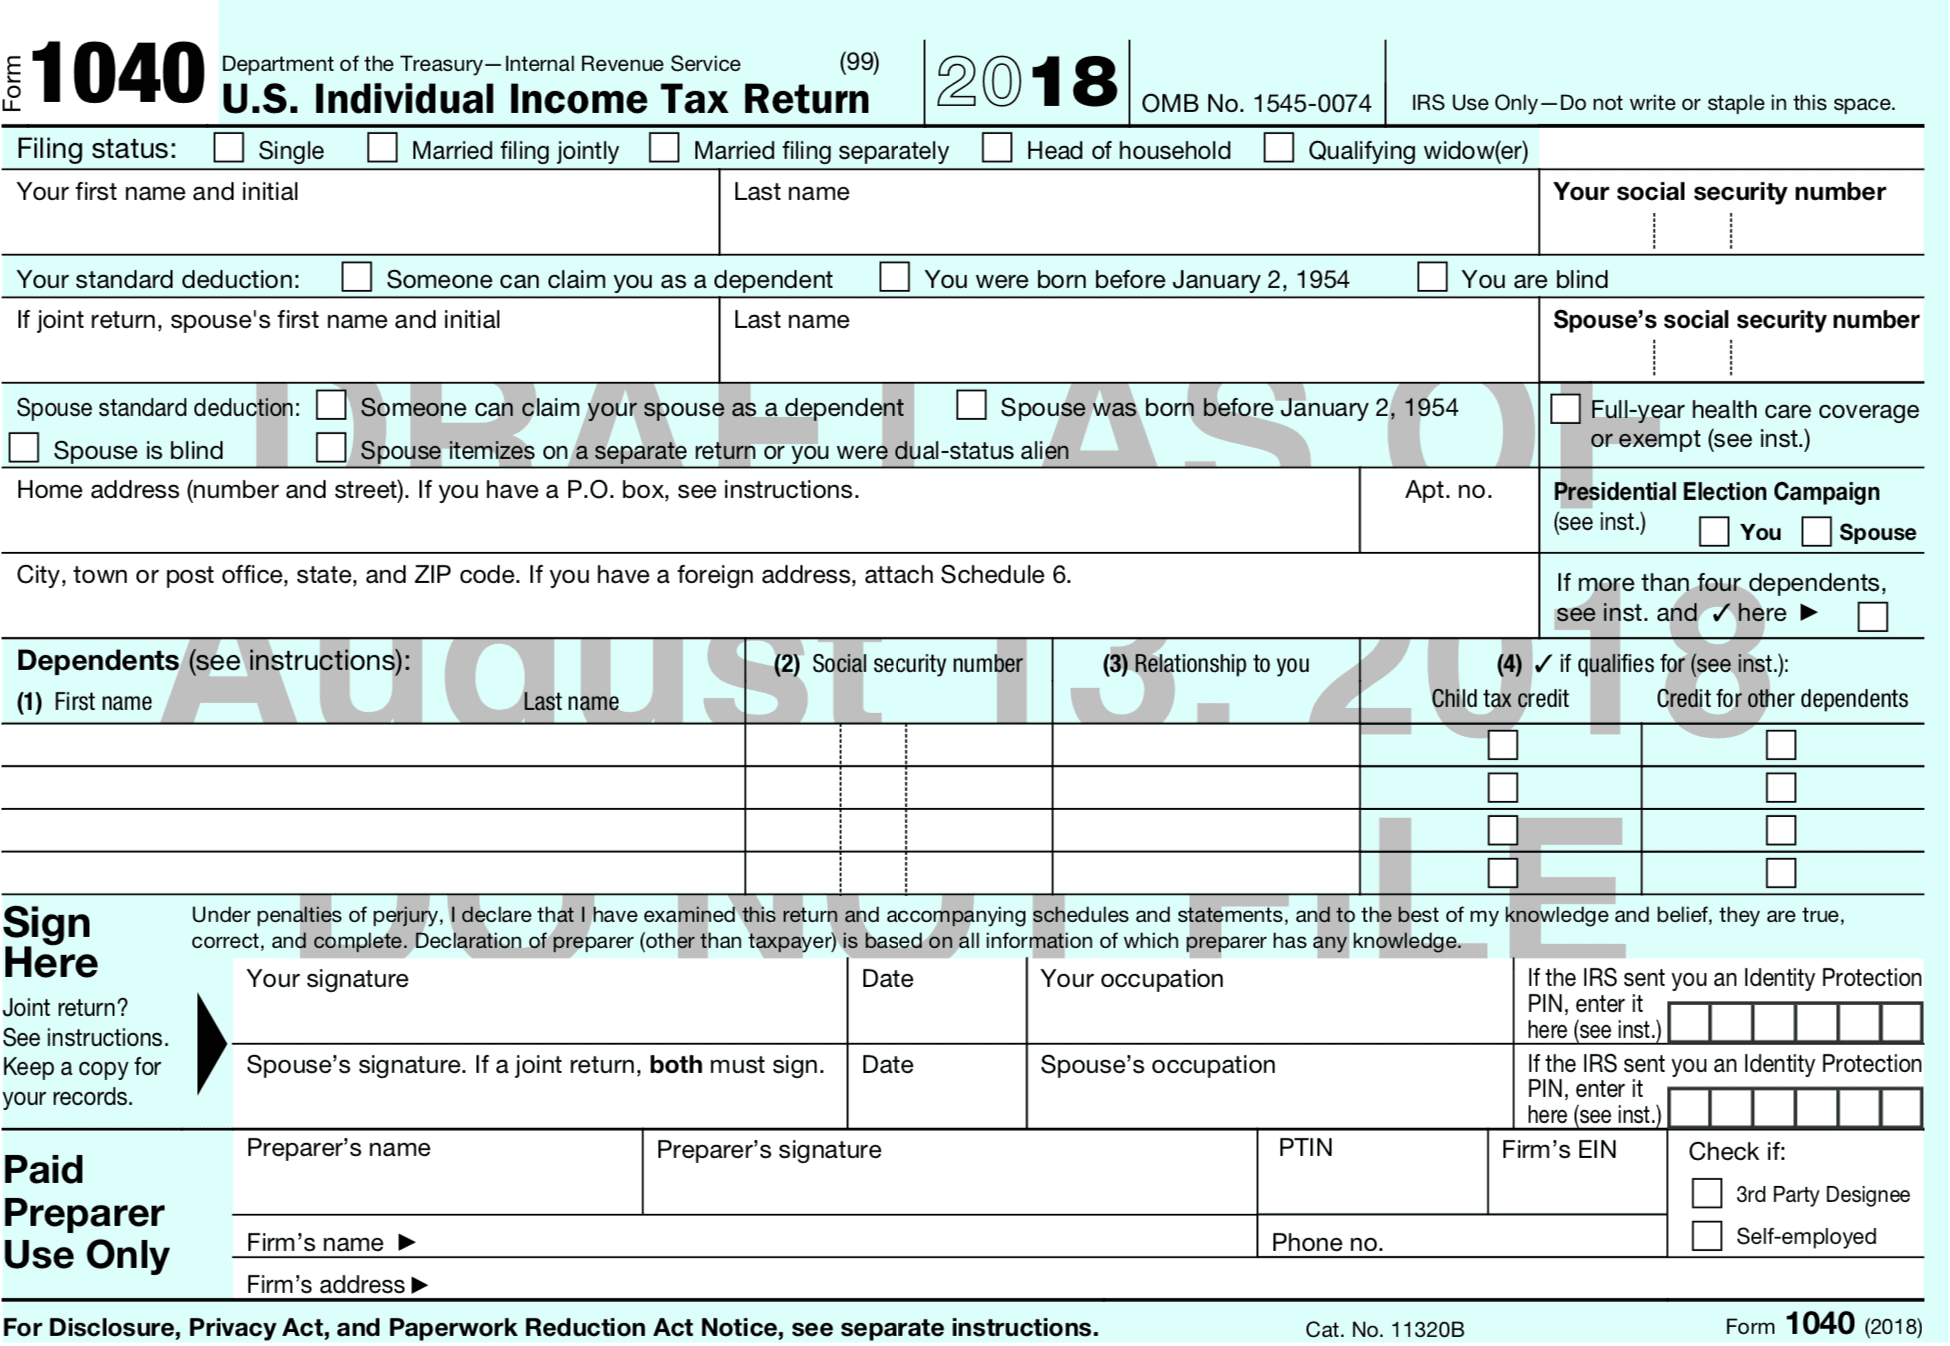checkbox: (976, 129, 1016, 165), (310, 387, 350, 422), (1854, 599, 1894, 634), (209, 129, 247, 165), (1258, 127, 1297, 163), (873, 258, 911, 294), (1412, 258, 1451, 294), (4, 428, 43, 464), (954, 387, 993, 422), (1698, 513, 1737, 548), (1796, 513, 1834, 548), (1485, 769, 1523, 805), (1762, 726, 1800, 762), (1762, 769, 1800, 805), (1688, 1217, 1726, 1253), (362, 130, 402, 165), (310, 428, 350, 463), (1485, 726, 1525, 760), (1760, 812, 1800, 846), (1760, 855, 1800, 889), (1688, 1176, 1728, 1210), (645, 130, 683, 165), (336, 259, 375, 294), (1545, 391, 1584, 425), (1485, 812, 1523, 846), (1485, 855, 1523, 889)
textbox: (1, 548, 1544, 640), (1, 464, 1365, 557), (222, 1251, 1928, 1306), (714, 163, 1545, 258), (716, 294, 1545, 385), (1, 162, 725, 261), (1, 294, 726, 388), (228, 952, 855, 1051), (636, 1125, 1265, 1223), (225, 1044, 853, 1136), (219, 1210, 1262, 1262), (1019, 959, 1519, 1050), (1022, 1041, 1522, 1131), (1, 843, 753, 898), (227, 1121, 648, 1219), (1, 717, 753, 771), (1, 760, 753, 814), (1, 803, 753, 857), (1532, 165, 1931, 258), (1534, 294, 1928, 385), (1251, 1125, 1494, 1219), (1251, 1210, 1671, 1263), (1528, 122, 1929, 170), (1353, 463, 1545, 560), (1479, 1125, 1674, 1220), (738, 716, 1061, 772), (739, 843, 1062, 900), (1042, 715, 1365, 771), (1045, 800, 1368, 857), (842, 1041, 1031, 1136), (736, 757, 1059, 812), (738, 800, 1061, 855), (1043, 757, 1366, 812), (1045, 843, 1368, 898), (842, 958, 1034, 1048), (1663, 1081, 1926, 1133), (1663, 998, 1928, 1048)
